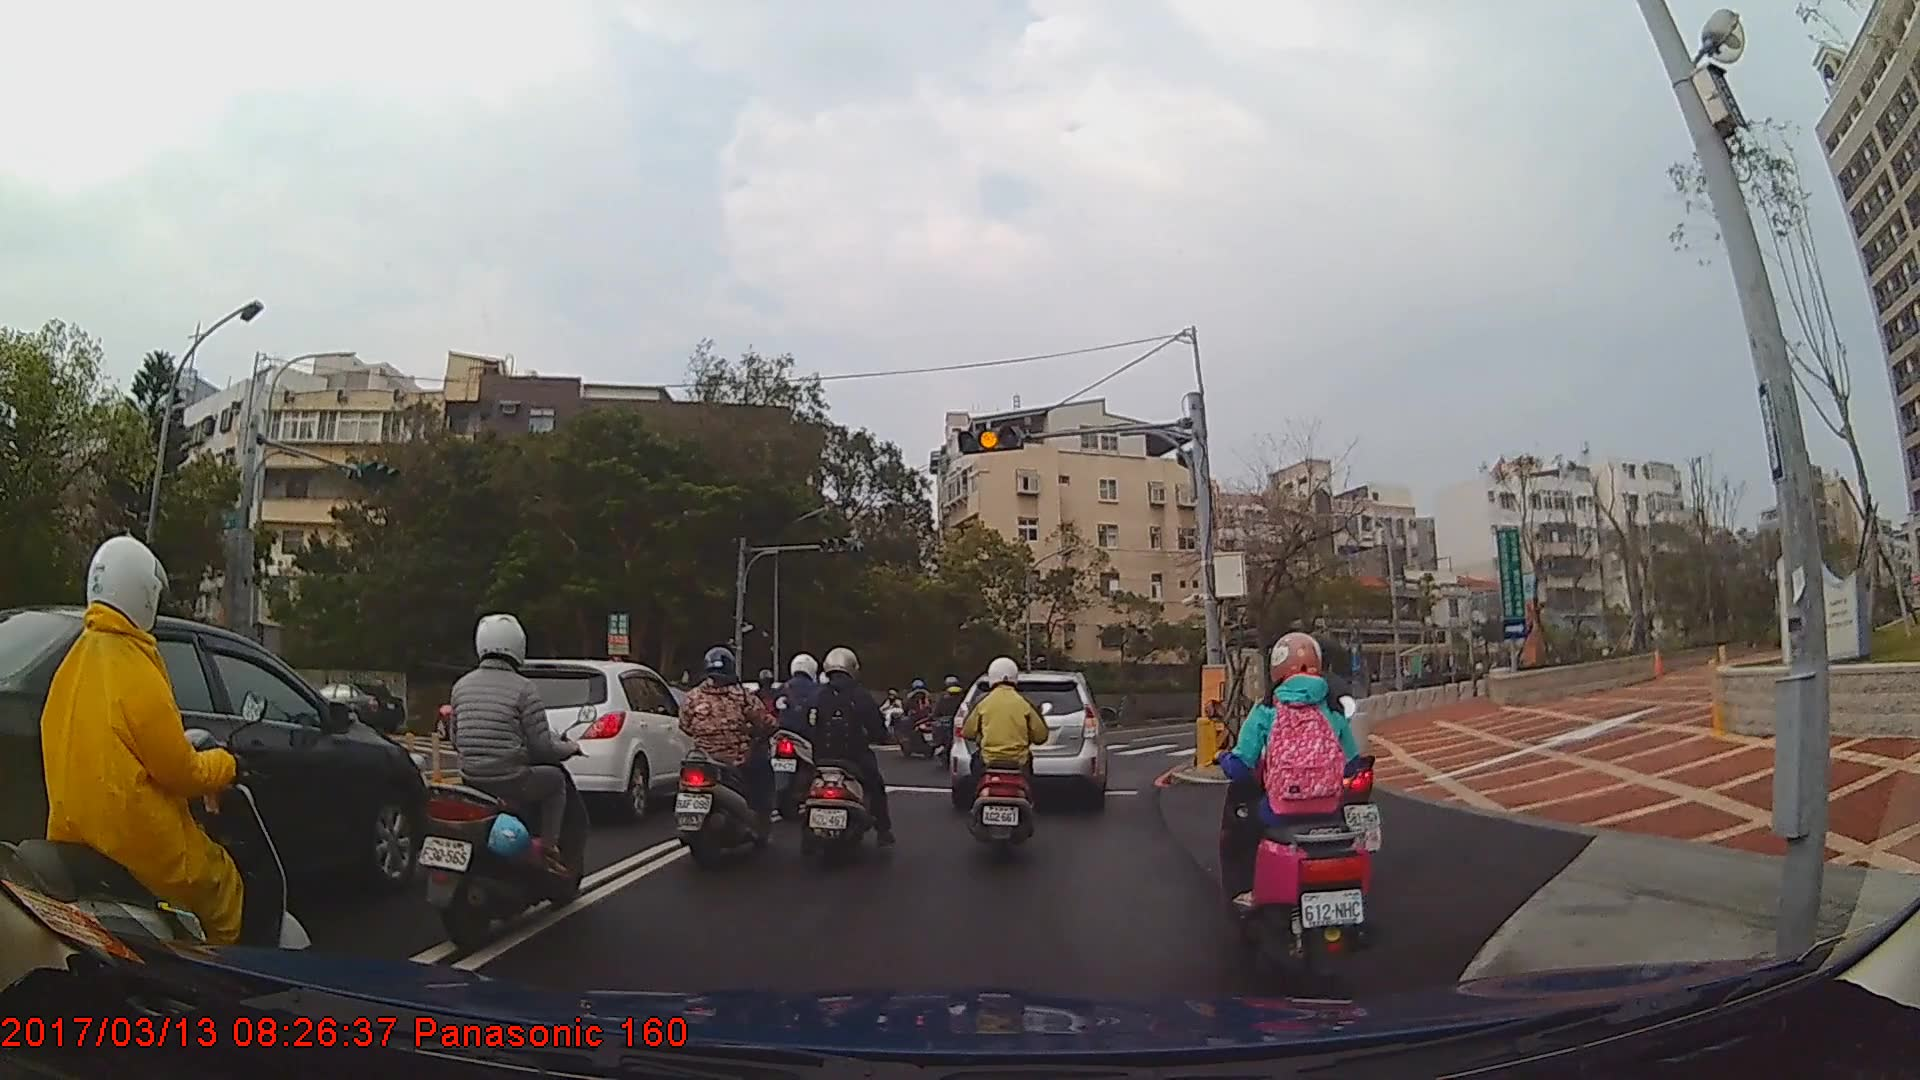rider: (7, 534, 312, 1018), (412, 611, 594, 954), (1218, 630, 1378, 966), (668, 642, 785, 873), (791, 641, 896, 866), (961, 653, 1054, 852), (765, 649, 834, 818), (919, 672, 980, 769), (889, 677, 945, 758)
vehicle: (0, 600, 432, 945), (468, 659, 709, 823), (948, 668, 1110, 808), (299, 679, 405, 733)
